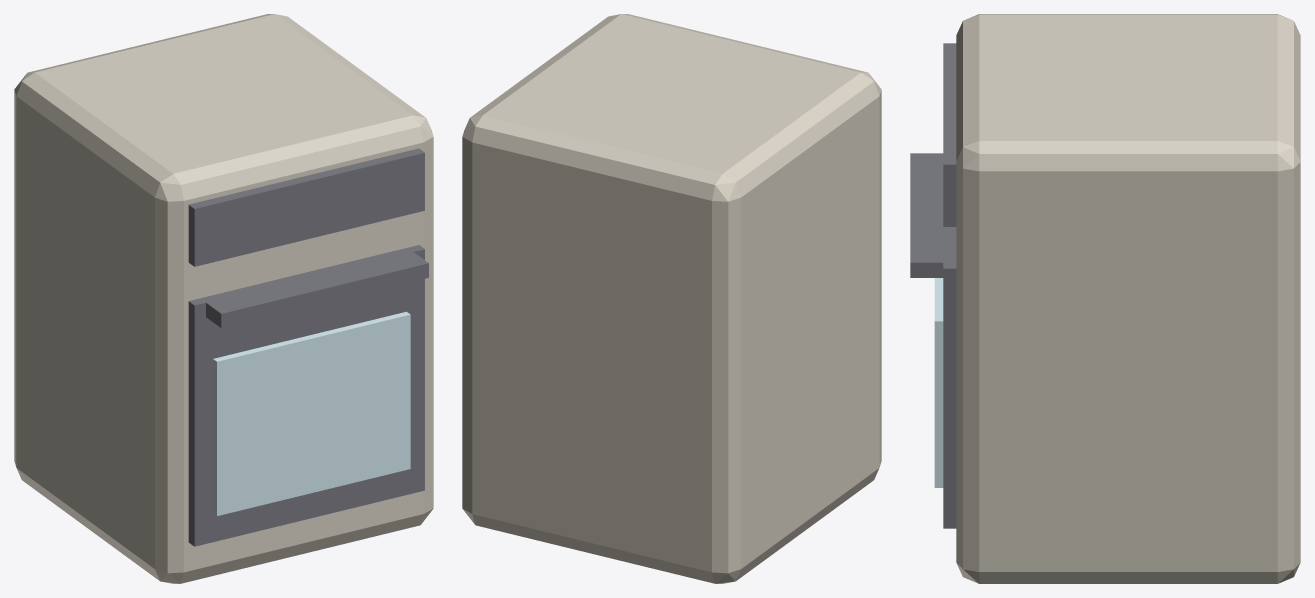
File: cozy-home-interiors-oven-4e536443.glb
The picture shows the model from 3 angles, left to right: view 1: azimuth 30°, elevation 25°; view 2: azimuth 150°, elevation 25°; view 3: azimuth 270°, elevation 25°; orthographic projection. The views are drawn at different scales.
Visible parts, largest first — view 1: oven; view 2: oven; view 3: oven.
Part boxes in pixels (left/top/right/bottom): oven: left=14, top=14, right=433, bottom=583; oven: left=462, top=14, right=881, bottom=583; oven: left=910, top=14, right=1300, bottom=583.
Size of the model in its own units: 0.6 by 0.85 by 0.68.
